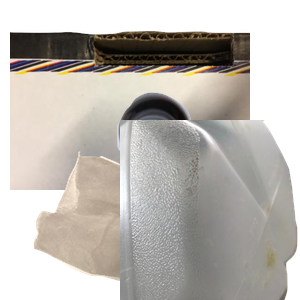cardboard: (10, 29, 250, 209)
glass: (115, 90, 300, 270)
plastic: (120, 120, 300, 300)
trash: (31, 149, 268, 300)
